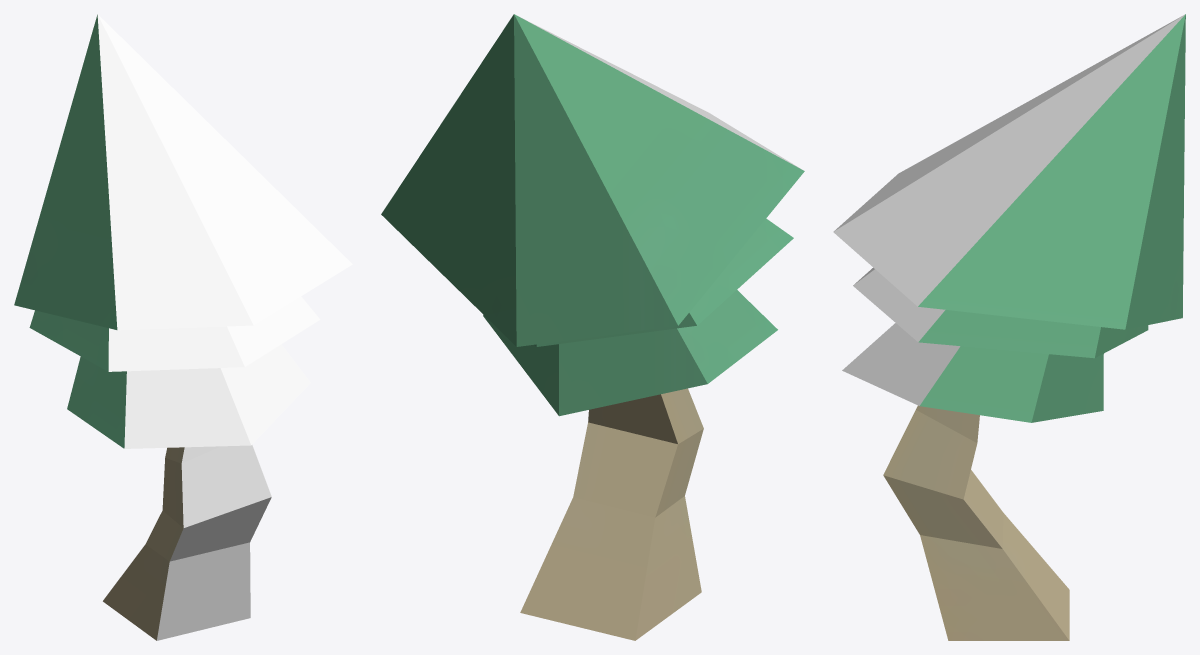
Rendered from KARLowAgac3.fbx.
The picture shows the model from 3 angles, left to right: view 1: azimuth 30°, elevation 25°; view 2: azimuth 150°, elevation 25°; view 3: azimuth 270°, elevation 25°; orthographic projection. The views are drawn at different scales.
Visible parts, largest first — view 1: Cube; view 2: Cube; view 3: Cube.
Boxes of the visible parts, x1,y1,x2,y2 form: Cube: (14, 14, 352, 640); Cube: (381, 14, 804, 640); Cube: (833, 14, 1185, 640).
Size of the model in its own units: 192 by 404 by 215.
